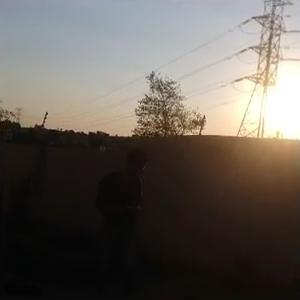follow: (93, 142, 153, 298)
